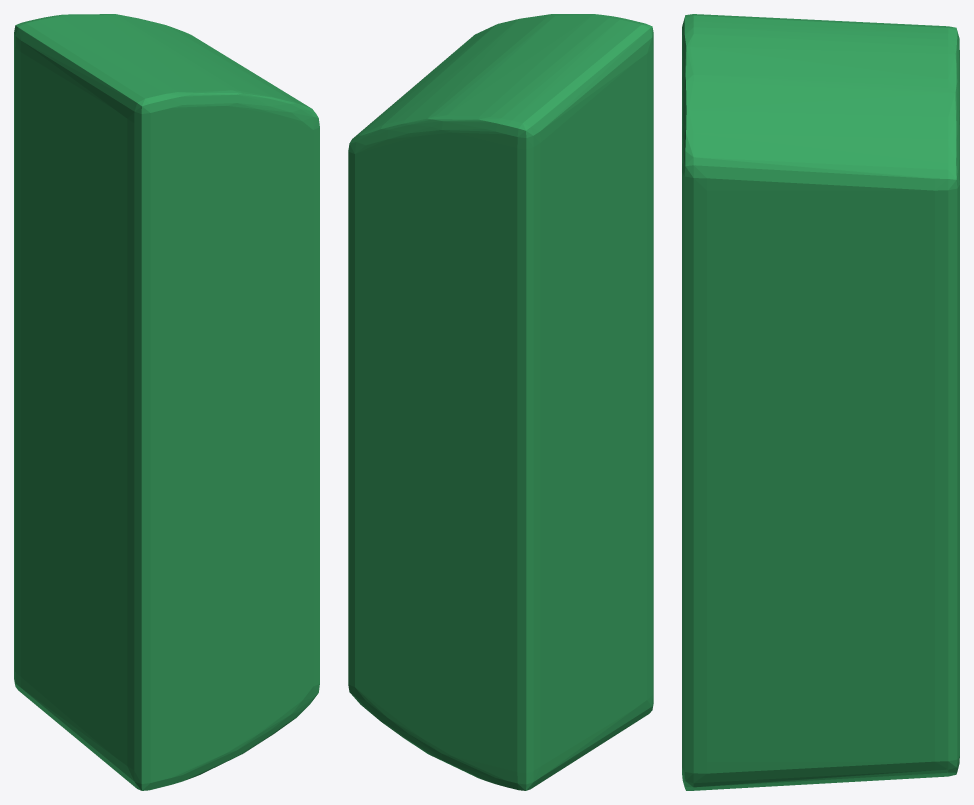
The model's file is right_forearm_collision_part_10.obj.
3 views of the same model, side by side, from view 1: azimuth 30°, elevation 25°; view 2: azimuth 150°, elevation 25°; view 3: azimuth 270°, elevation 25° (orthographic). The views are drawn at different scales.
Bounding box in the file's own units: 39.94 × 142 × 48.26.
